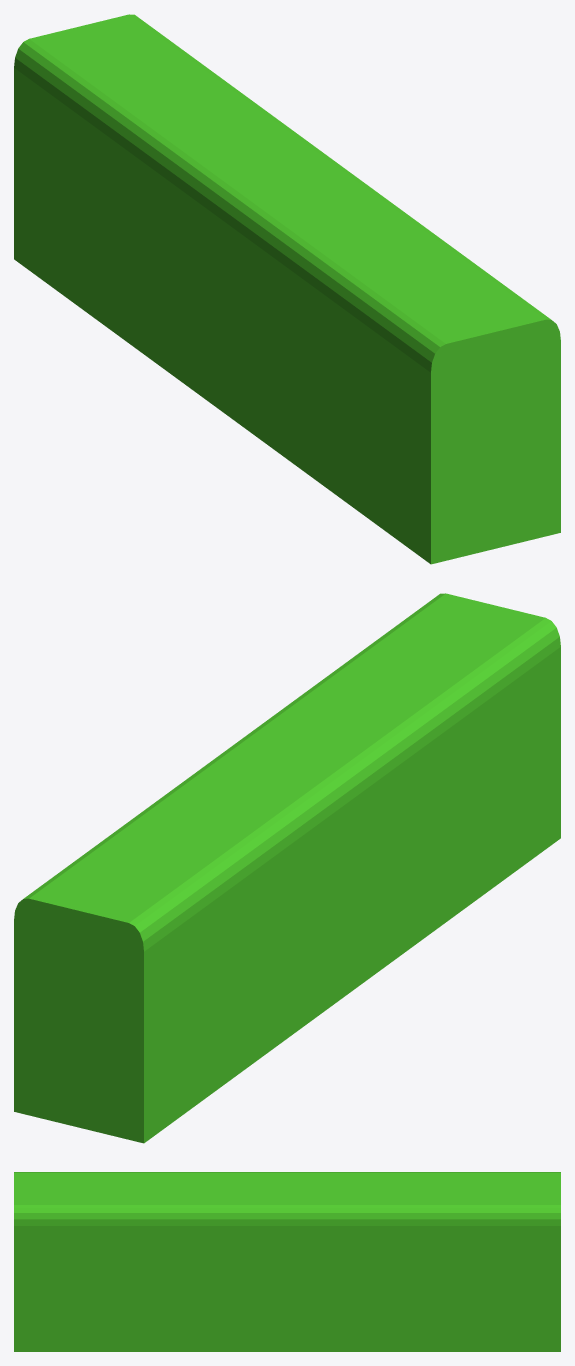
Rendered from hedge.glb.
The picture shows the model from 3 angles, top to bottom: view 1: azimuth 30°, elevation 25°; view 2: azimuth 150°, elevation 25°; view 3: azimuth 270°, elevation 25°; orthographic projection. The views are drawn at different scales.
Visible parts, largest first — view 1: Cube; view 2: Cube; view 3: Cube.
Part boxes in pixels (bbox=[...]): Cube: bbox=[14, 14, 560, 564]; Cube: bbox=[14, 593, 560, 1143]; Cube: bbox=[14, 1172, 560, 1351].
Size of the model in its own units: 1.26 by 2 by 6.97.
